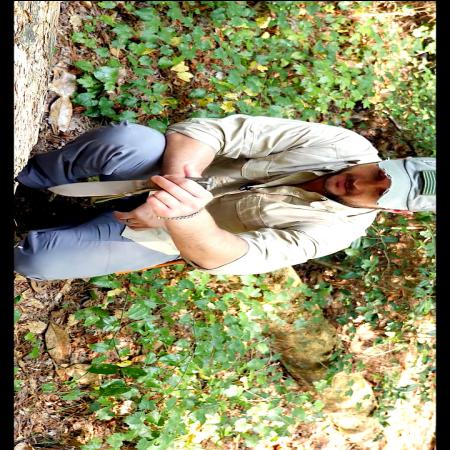long weapon: (41, 174, 212, 206)
